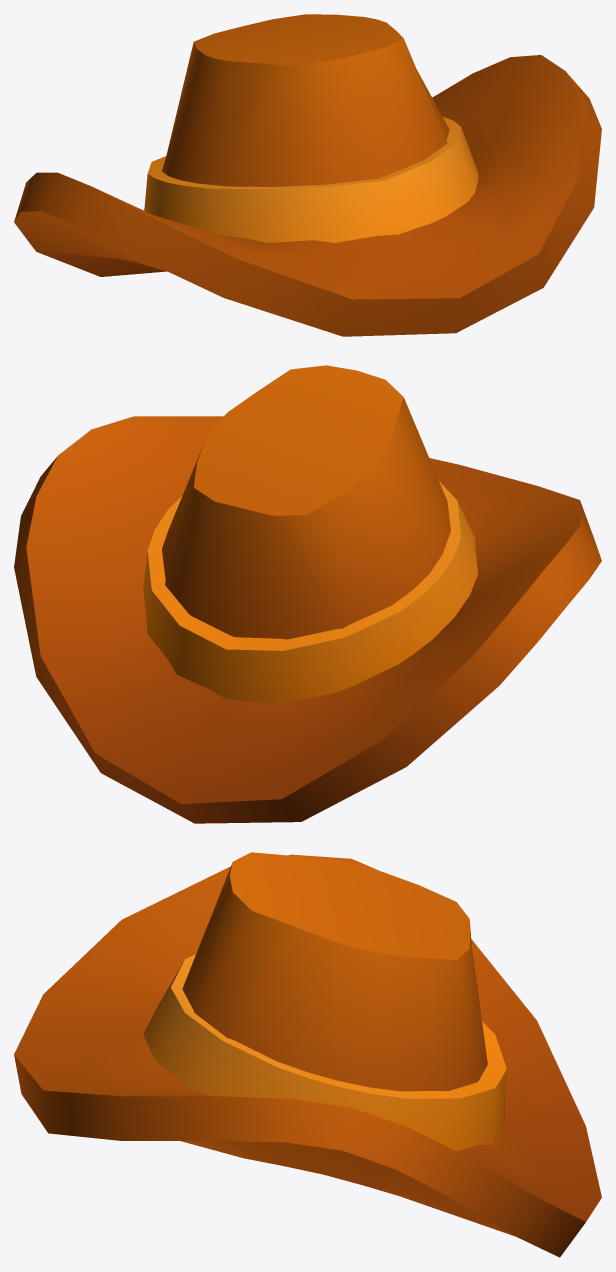
The model's file is Collectable_Cowboy_Hat_01.fbx.
The picture shows the model from 3 angles, top to bottom: view 1: azimuth 30°, elevation 25°; view 2: azimuth 150°, elevation 25°; view 3: azimuth 270°, elevation 25°; orthographic projection. The views are drawn at different scales.
Visible parts, largest first — view 1: Collectable_Cowboy_Hat_01; view 2: Collectable_Cowboy_Hat_01; view 3: Collectable_Cowboy_Hat_01.
Boxes of the visible parts, box(x1,y1,x2,y2) form: Collectable_Cowboy_Hat_01: box(14, 14, 601, 336); Collectable_Cowboy_Hat_01: box(14, 365, 601, 823); Collectable_Cowboy_Hat_01: box(14, 852, 601, 1257).
Bounding box in the file's own units: 138 × 83.33 × 126.
1 material, 1 textured.
